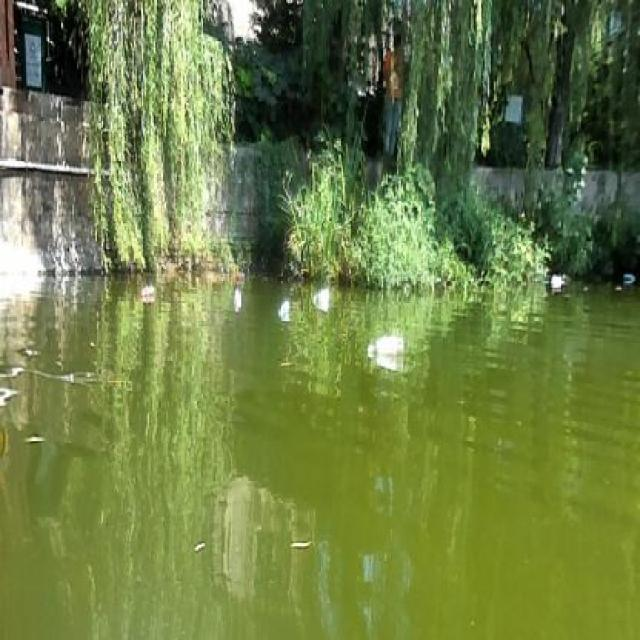Waste: (358, 330, 416, 372), (308, 284, 342, 310), (270, 298, 298, 326), (228, 278, 246, 319)
